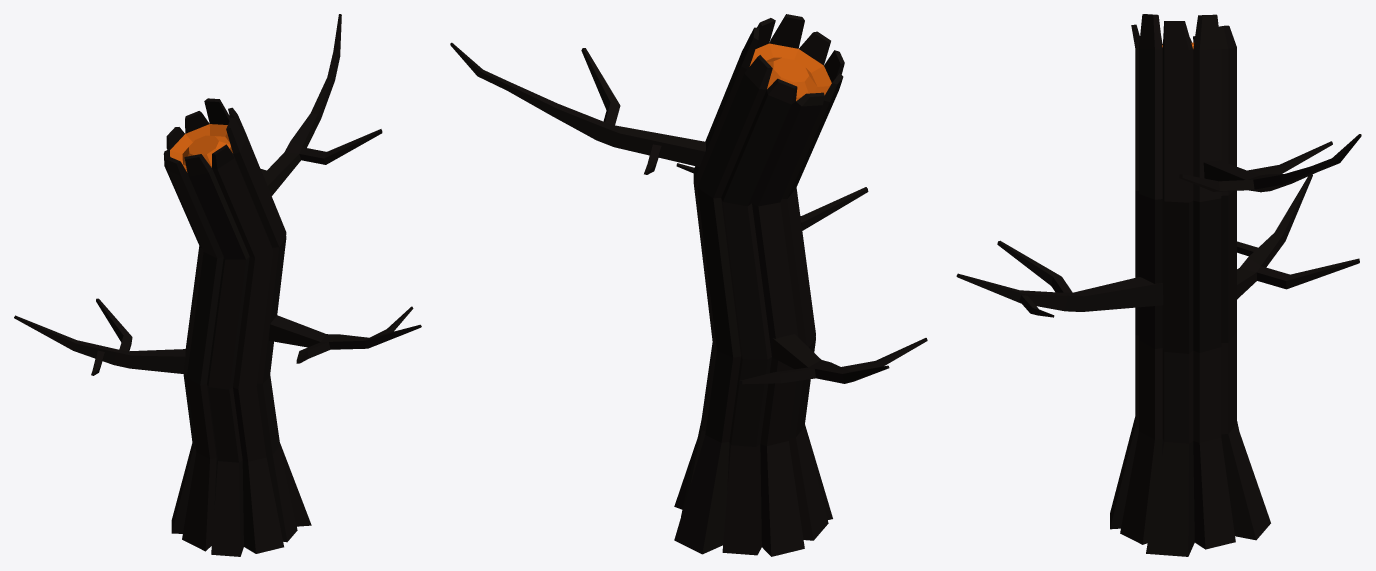
File: Broken_Tree_Dead.obj
The picture shows the model from 3 angles, left to right: view 1: azimuth 30°, elevation 25°; view 2: azimuth 150°, elevation 25°; view 3: azimuth 270°, elevation 25°; orthographic projection. The views are drawn at different scales.
Parts seen in each view (by area): view 1: Broken_Tree_Dead_Cylinder.035; view 2: Broken_Tree_Dead_Cylinder.035; view 3: Broken_Tree_Dead_Cylinder.035.
Part boxes in pixels (<box>): Broken_Tree_Dead_Cylinder.035: <box>14,14,421,556</box>; Broken_Tree_Dead_Cylinder.035: <box>450,14,927,556</box>; Broken_Tree_Dead_Cylinder.035: <box>956,14,1361,556</box>.
Size of the model in its own units: 2.92 by 3.41 by 2.51.
